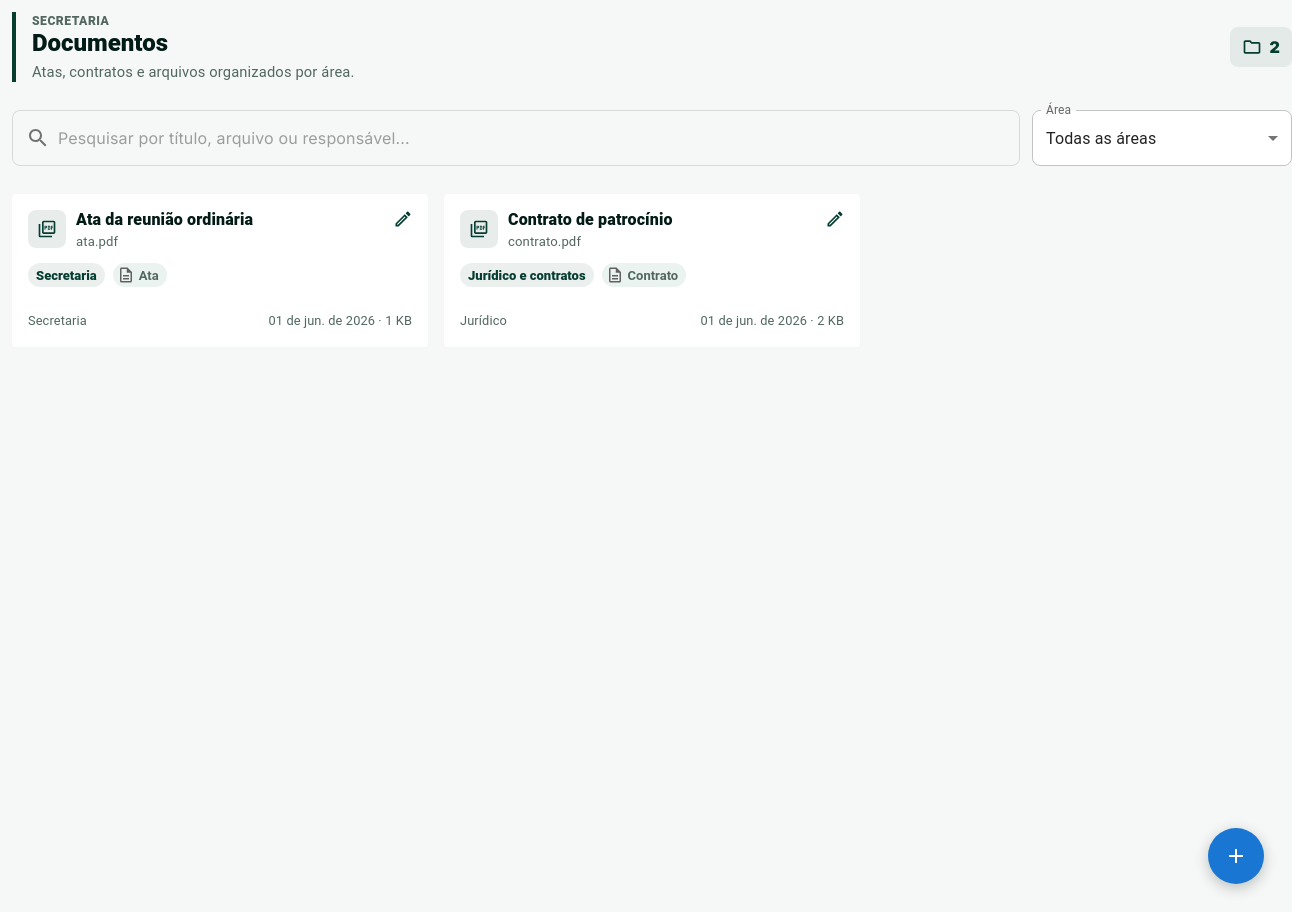
it: <DocumentosSecretariaView /> › renderiza documentos, busca e filtro por área
Expected: the text "Ata da reunião ordinária" is shown, [76,210,253,230]
Type "patrocínio" into the field with placeholder "Pesquisar por título, arquivo ou responsável..." at (539, 138), box [58,110,1020,166]
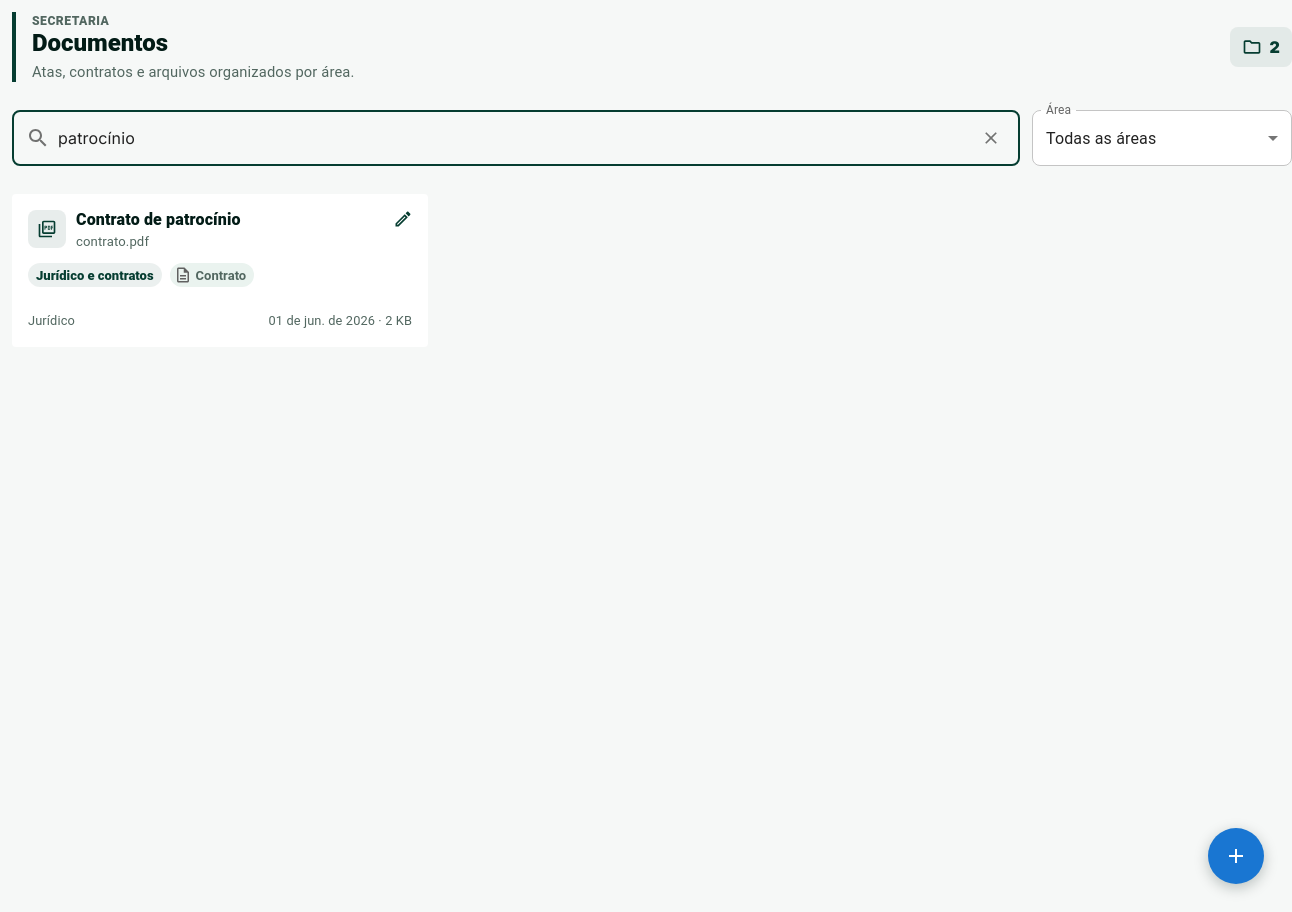
Expected: the text "Contrato de patrocínio" is shown, [76,210,241,230]
Result: the button "Ata da reunião ordinária" is gone
Click the dropdown labelled "área" at (1101, 138), box [1046,129,1156,148]
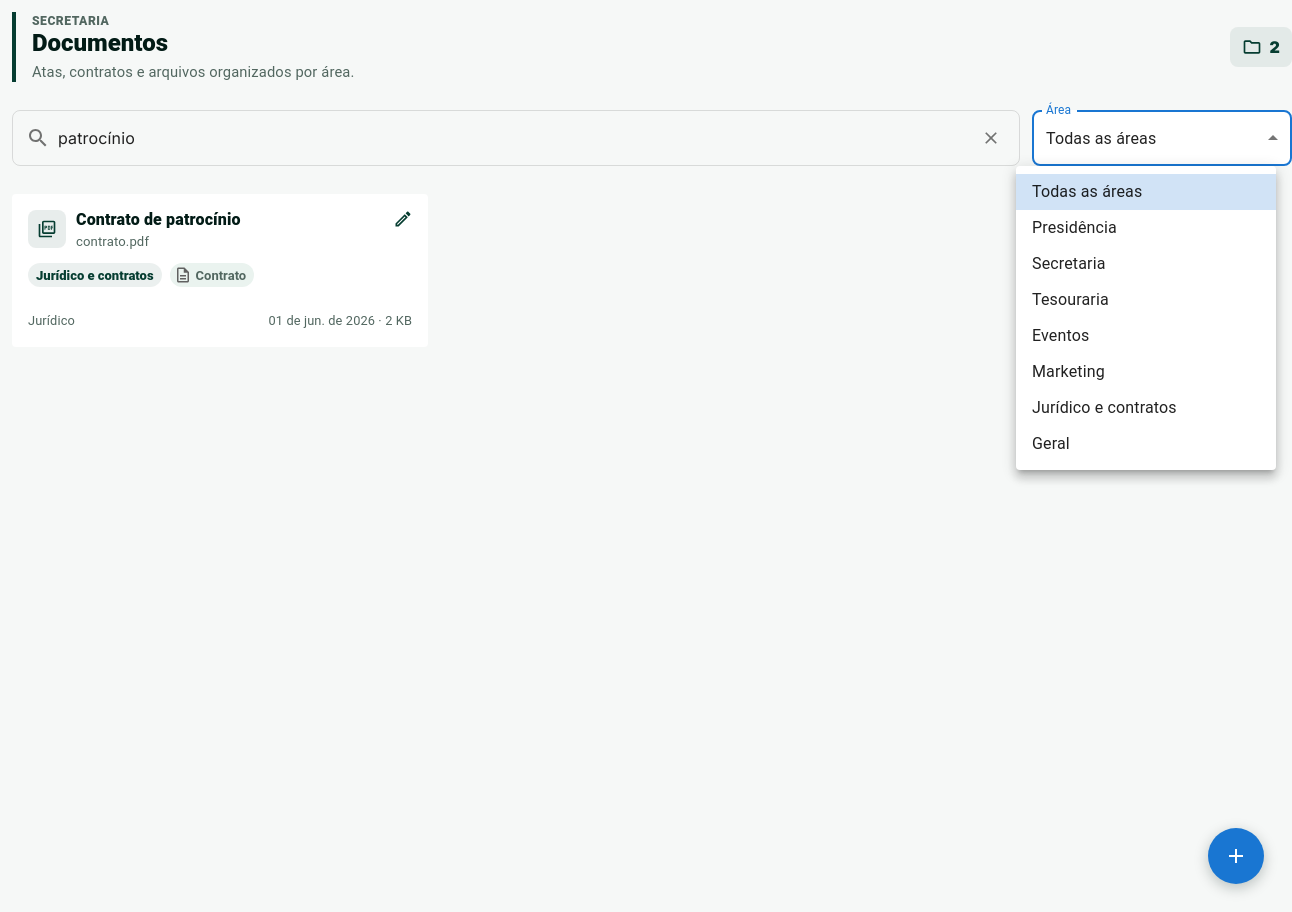
Click the option "Tesouraria" at (1070, 300), box [1032,290,1109,309]
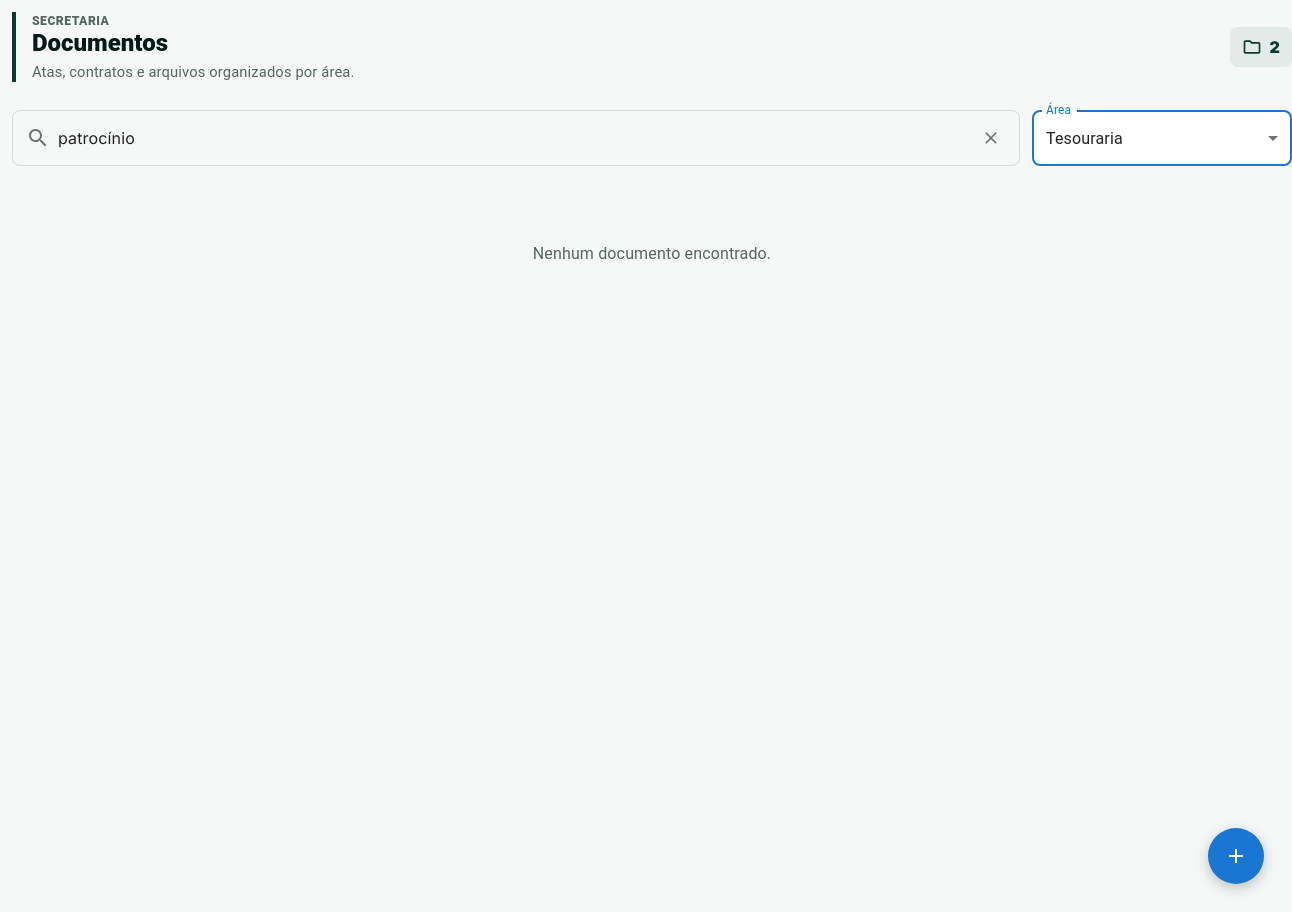
Result: the text "Nenhum documento encontrado." is shown at [533,244,771,264]
